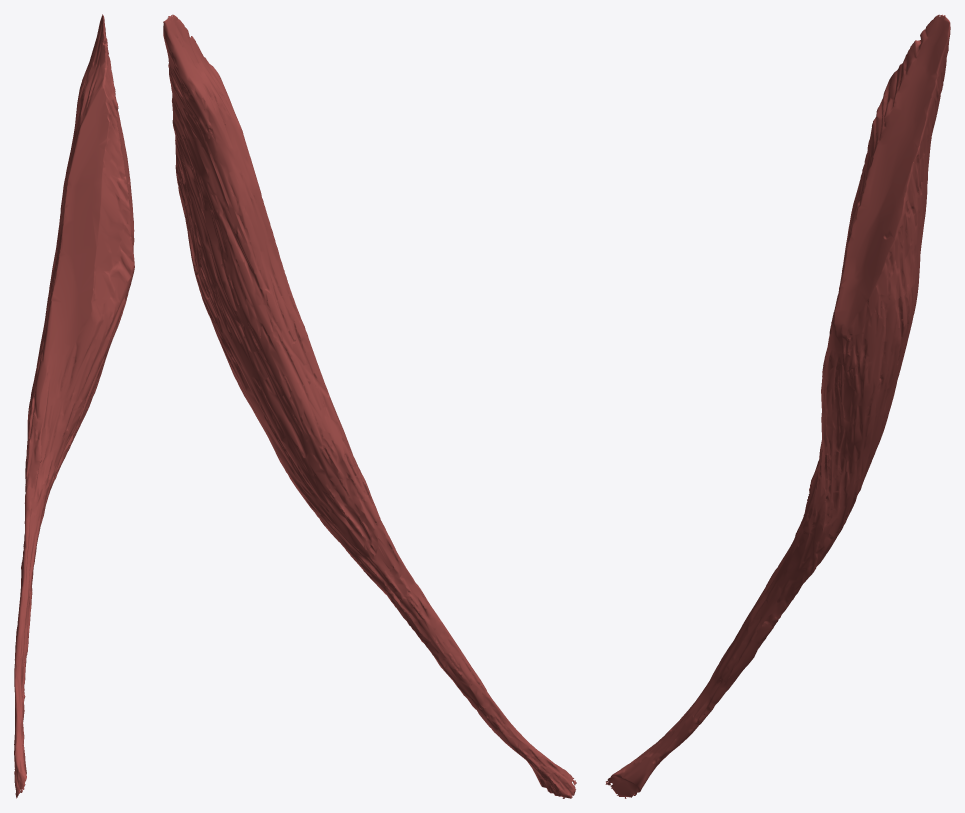
File: FMA38516.glb
The picture shows the model from 3 angles, left to right: view 1: azimuth 30°, elevation 25°; view 2: azimuth 150°, elevation 25°; view 3: azimuth 270°, elevation 25°; orthographic projection. The views are drawn at different scales.
Parts seen in each view (by area): view 1: FMA38516; view 2: FMA38516; view 3: FMA38516.
Boxes of the visible parts, box(x1,y1,x2,y2) form: FMA38516: box(14, 14, 134, 798); FMA38516: box(163, 14, 576, 798); FMA38516: box(605, 14, 950, 798).
Size of the model in its own units: 0.0621 by 0.1822 by 0.0618.
